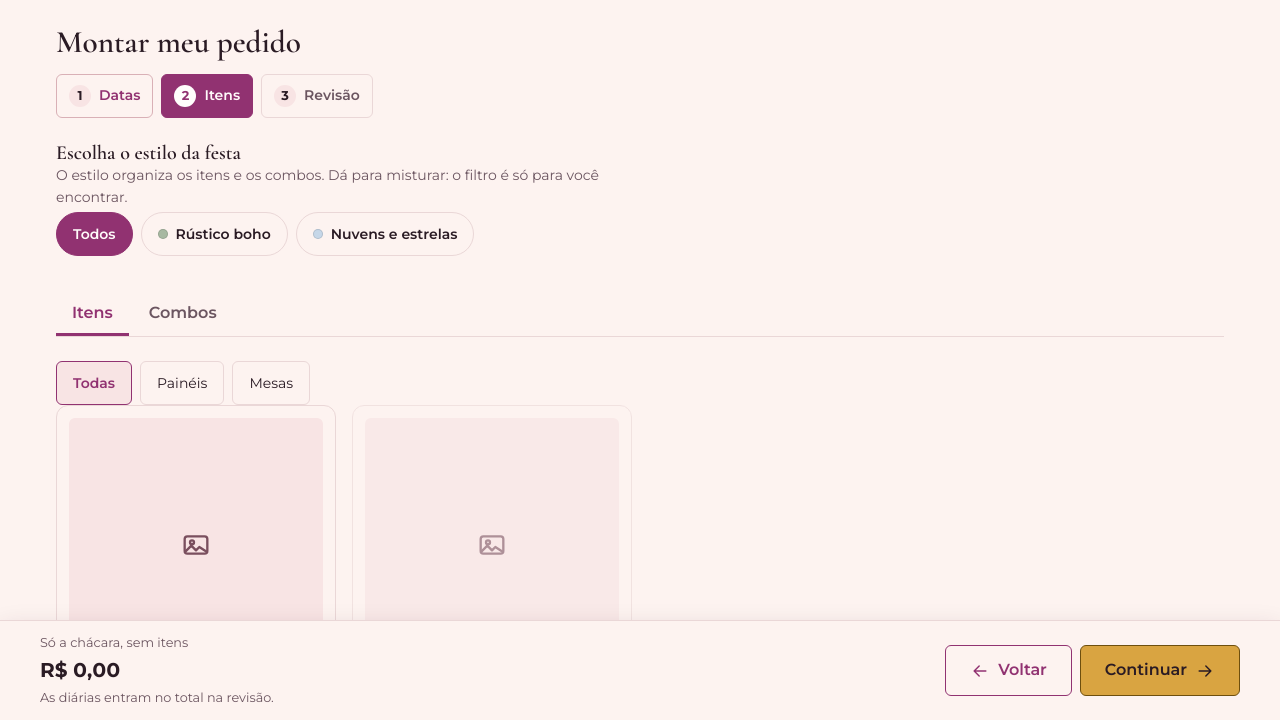
it: BookingWizard, passo de itens › mostra a economia do combo e o que falta para fechá-lo
This screenshot has width=1280, height=720.
Check: the text "Painel de balões arco-íris" is shown, box [69,682,274,702]
What coordinates should you click on to do the following:
click the tab "Combos"
I would click on:
 (183, 314)
Its box is [133,292,233,336].
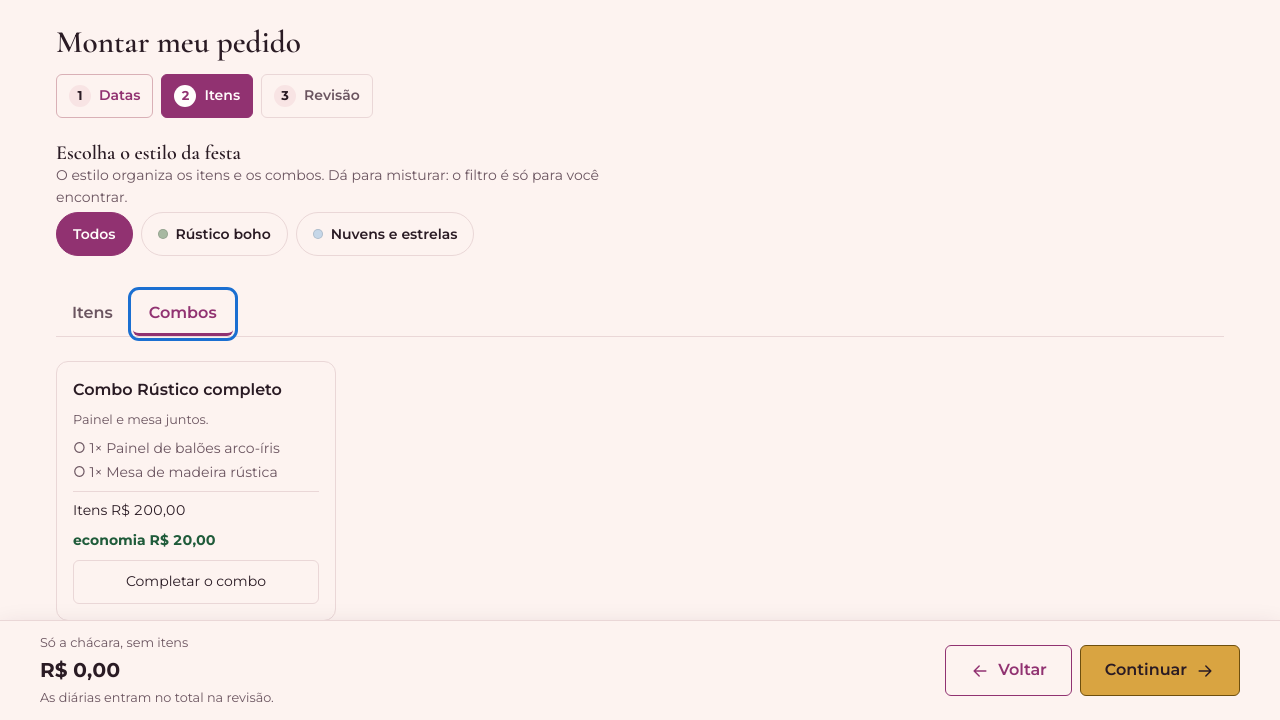
Check: the text "Combo Rústico completo" is shown, box [73,380,282,400]
Check: the text "R$ 20,00" is shown, box [150,531,216,549]
Check: the button "Completar o combo" is shown, box [73,560,319,604]
